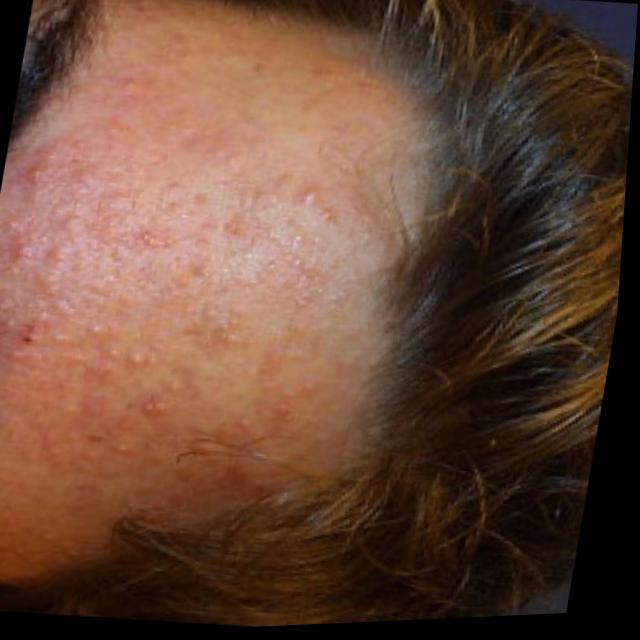Acne: (0, 117, 360, 470)
